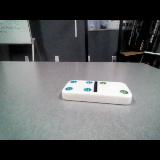domino: (62, 80, 132, 104)
